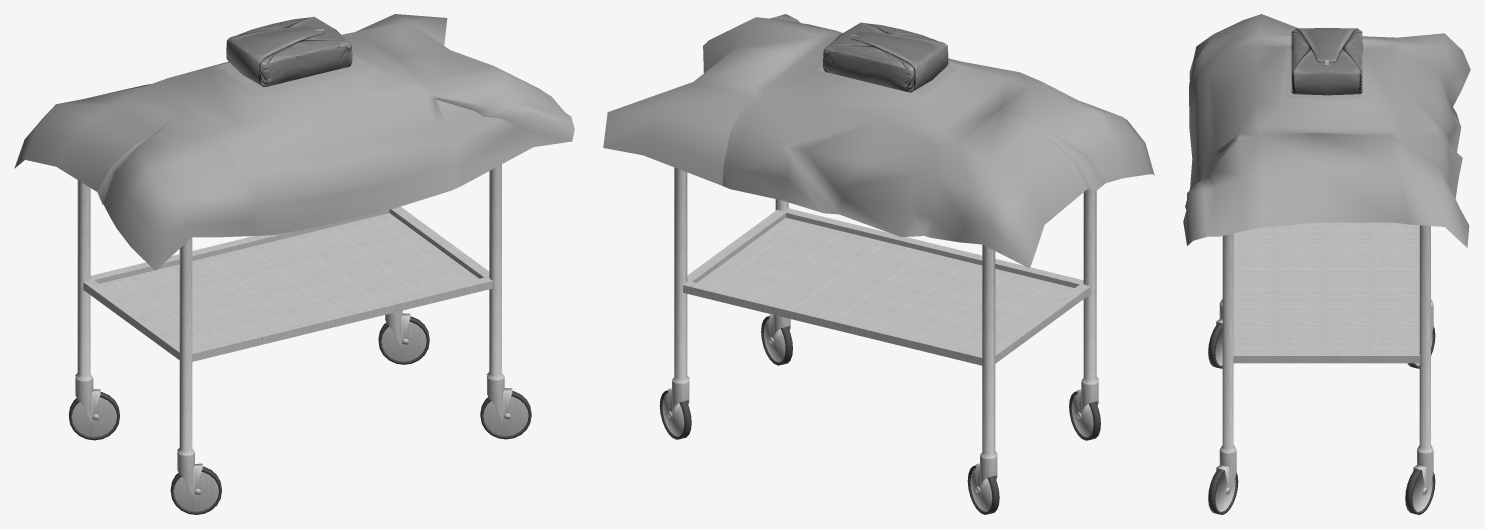
The model's file is Steel_Table_StoreRoom.fbx.
3 renders of one model, left to right at view 1: azimuth 30°, elevation 25°; view 2: azimuth 150°, elevation 25°; view 3: azimuth 270°, elevation 25°, orthographic. The views are drawn at different scales.
Visible parts, largest first — view 1: Table_StoreRoom_Cloth, Table_StoreRoom_Mesh, Table_StoreRoom_Package; view 2: Table_StoreRoom_Cloth, Table_StoreRoom_Mesh, Table_StoreRoom_Package; view 3: Table_StoreRoom_Cloth, Table_StoreRoom_Mesh, Table_StoreRoom_Package.
Boxes of the visible parts, left/top/right/bottom form: Table_StoreRoom_Cloth: left=14, top=14, right=574, bottom=270; Table_StoreRoom_Mesh: left=68, top=164, right=531, bottom=514; Table_StoreRoom_Package: left=226, top=16, right=352, bottom=86; Table_StoreRoom_Cloth: left=603, top=14, right=1154, bottom=268; Table_StoreRoom_Mesh: left=659, top=167, right=1100, bottom=514; Table_StoreRoom_Package: left=823, top=22, right=948, bottom=92; Table_StoreRoom_Cloth: left=1183, top=14, right=1470, bottom=247; Table_StoreRoom_Mesh: left=1208, top=222, right=1435, bottom=514; Table_StoreRoom_Package: left=1291, top=28, right=1362, bottom=95.
Bounding box in the file's own units: 116 × 103 × 69.04.
